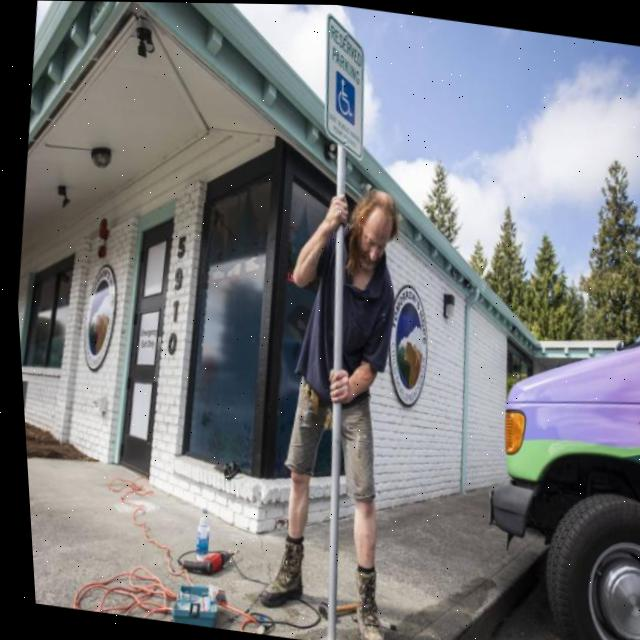symbol_of_access: (329, 71, 359, 125)
